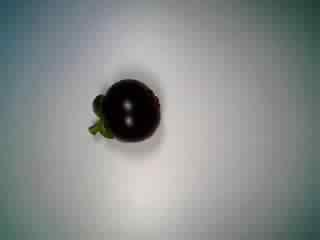mangosteen: (83, 76, 163, 154)
